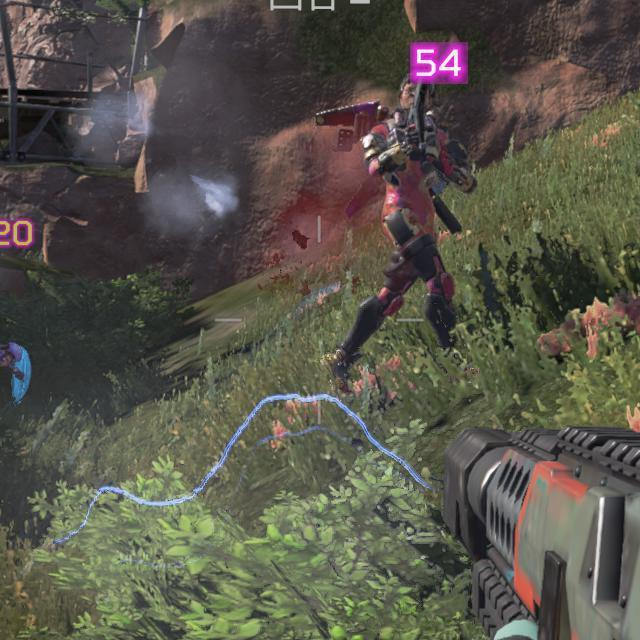avatar: (312, 68, 479, 394)
